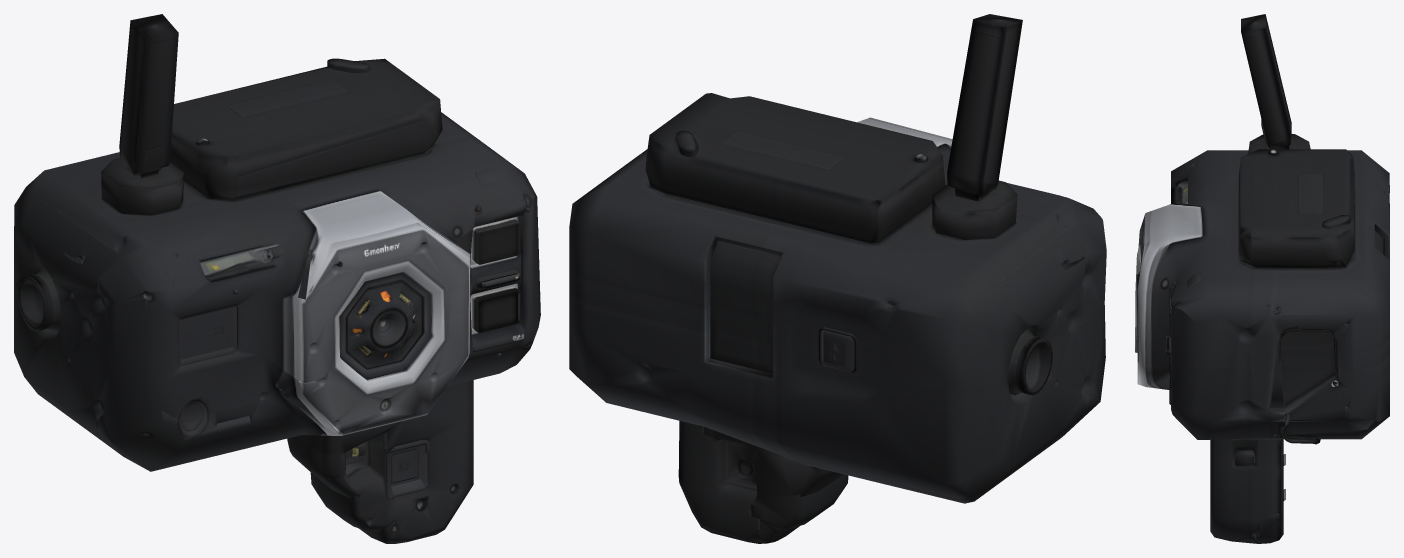
Rendered from tripo_convert_aafb4893-a0f2-45b2-a74f-81614eb72ab3.fbx.
The picture shows the model from 3 angles, left to right: view 1: azimuth 30°, elevation 25°; view 2: azimuth 150°, elevation 25°; view 3: azimuth 270°, elevation 25°; orthographic projection. The views are drawn at different scales.
Visible parts, largest first — view 1: tripo_node_aafb4893; view 2: tripo_node_aafb4893; view 3: tripo_node_aafb4893.
Part boxes in pixels (bbox=[...]): tripo_node_aafb4893: bbox=[14, 14, 540, 543]; tripo_node_aafb4893: bbox=[569, 14, 1106, 543]; tripo_node_aafb4893: bbox=[1135, 14, 1389, 543].
Size of the model in its own units: 0.8276 by 0.9995 by 0.5435.
Materials: 1 (1 with a texture image).
